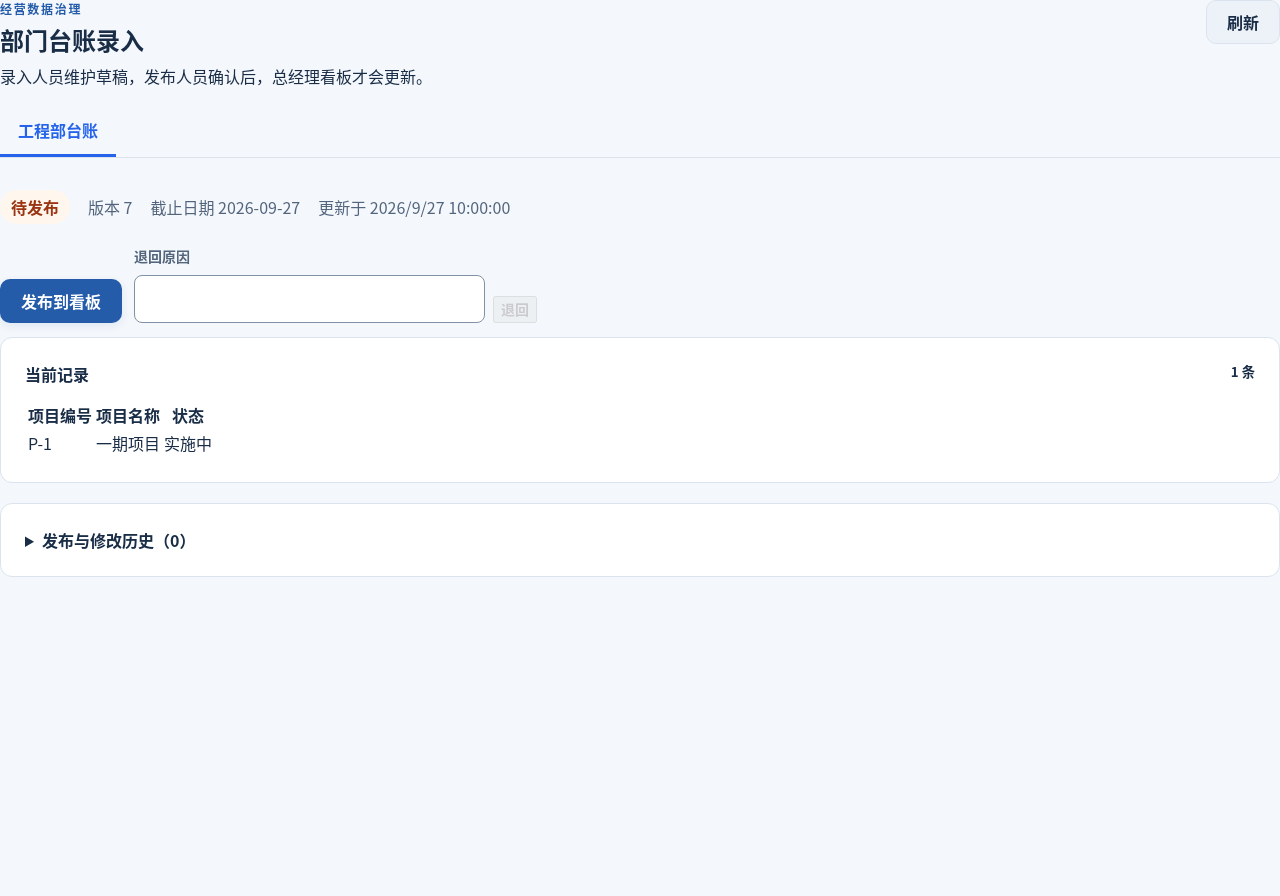
publishes submitted data and exposes an explicit return reason
This screenshot has width=1280, height=896.
Click the button "发布到看板" at [61, 301], box [0, 279, 122, 323]
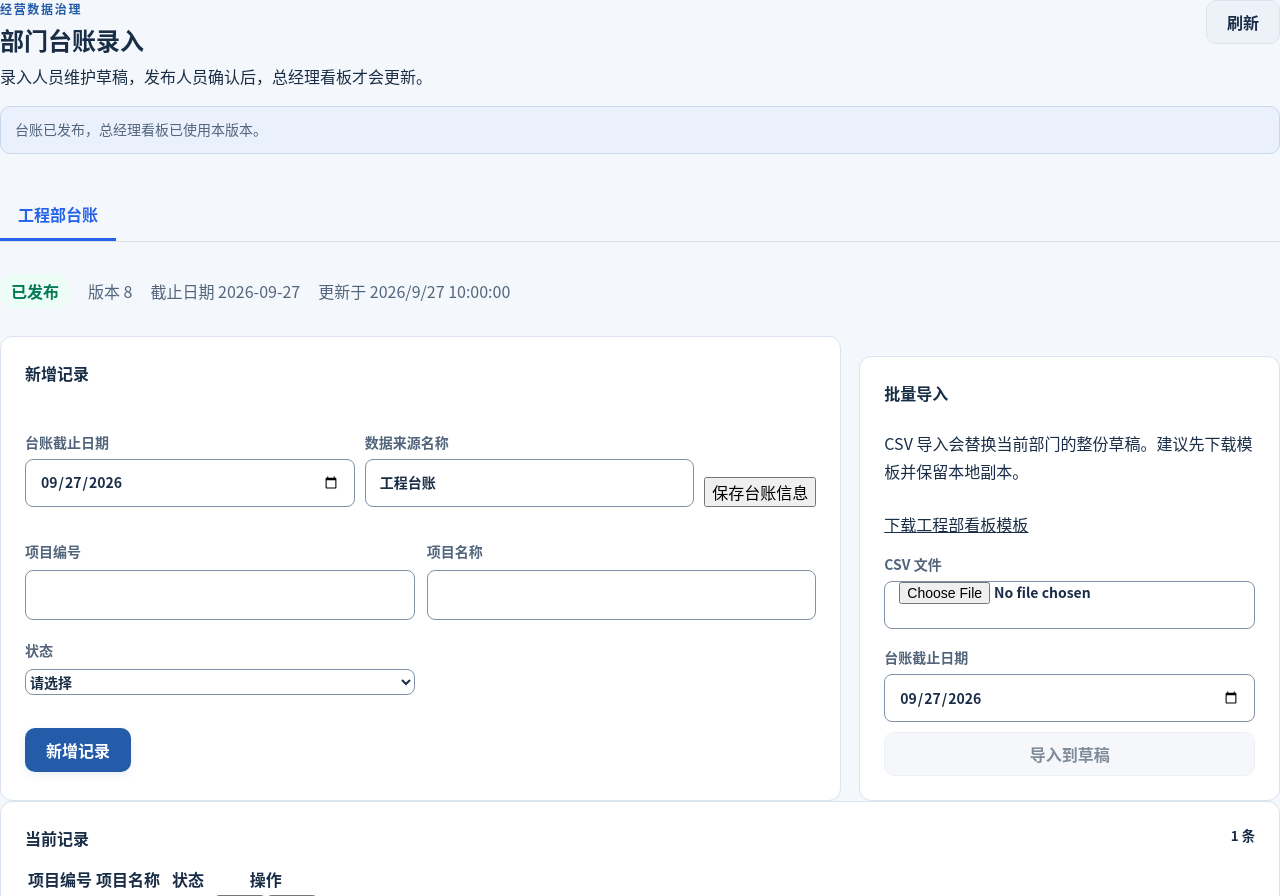
Check: the text "台账已发布，总经理看板已使用本版本。" is shown, box [0, 106, 1279, 154]
